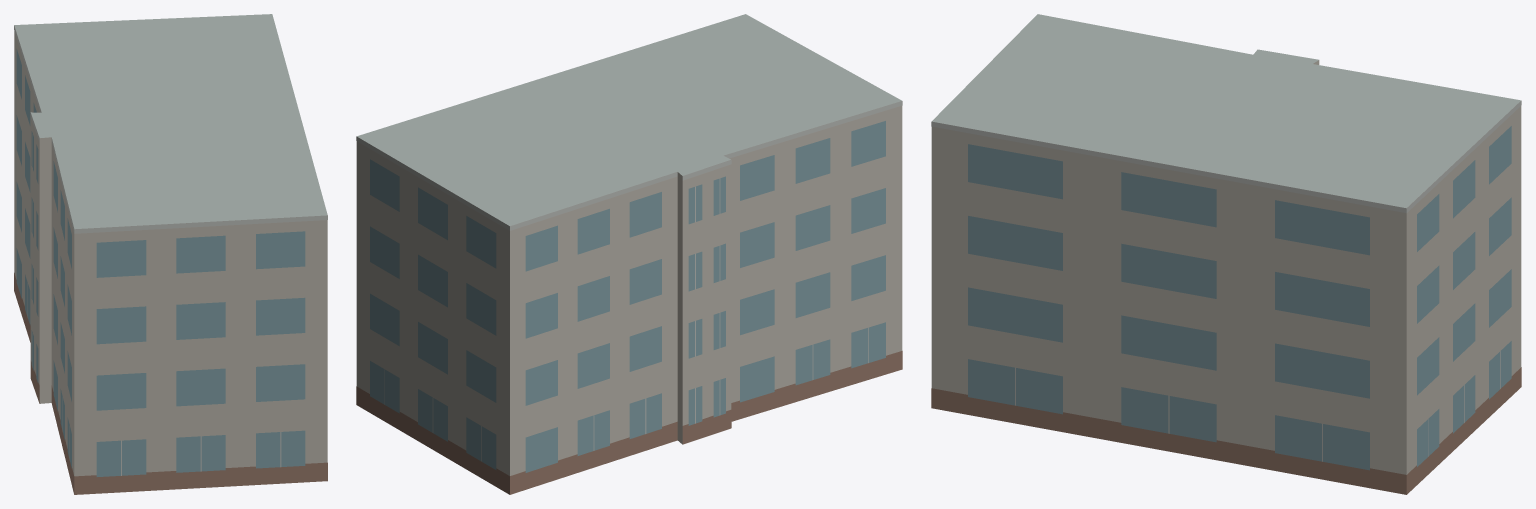
Rendered from survey-upis-32483569.glb.
3 views of the same model, side by side, from view 1: azimuth 30°, elevation 25°; view 2: azimuth 150°, elevation 25°; view 3: azimuth 270°, elevation 25° (orthographic). The views are drawn at different scales.
Parts seen in each view (by area): view 1: survey-upis-32483569.tmp; view 2: survey-upis-32483569.tmp; view 3: survey-upis-32483569.tmp.
Boxes of the visible parts, <box> form: survey-upis-32483569.tmp: <box>14,14,327,494</box>; survey-upis-32483569.tmp: <box>356,14,902,494</box>; survey-upis-32483569.tmp: <box>931,14,1521,494</box>.
Bounding box in the file's own units: 20.33 × 13.98 × 26.09.
